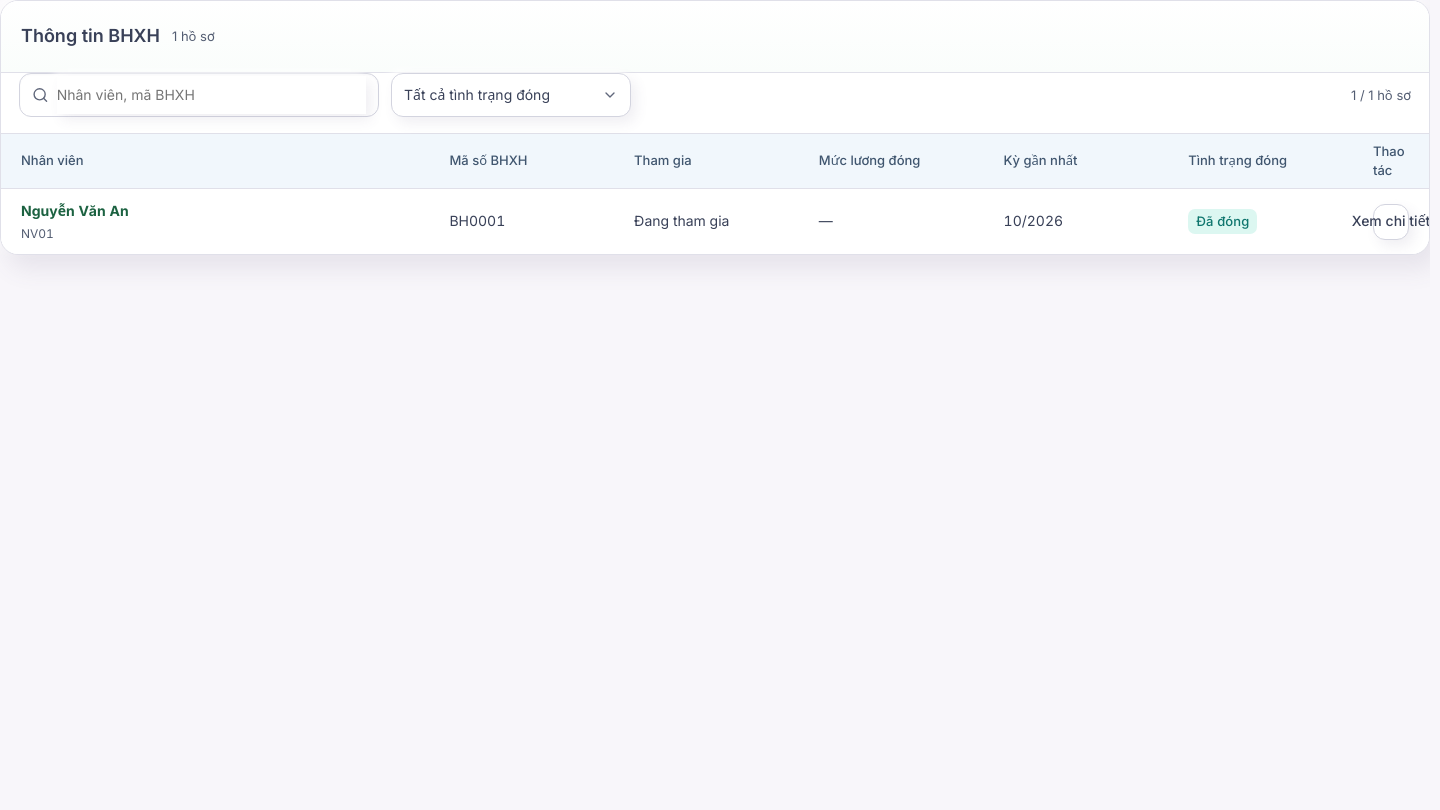
insurance history UI › hides history actions when server capability is absent
expect the text "1 hồ sơ" is shown: met, box [172, 27, 215, 46]
Click the button with aria-label "Xem BHXH của Nguyễn Văn An" at (75, 222), box [21, 197, 129, 246]
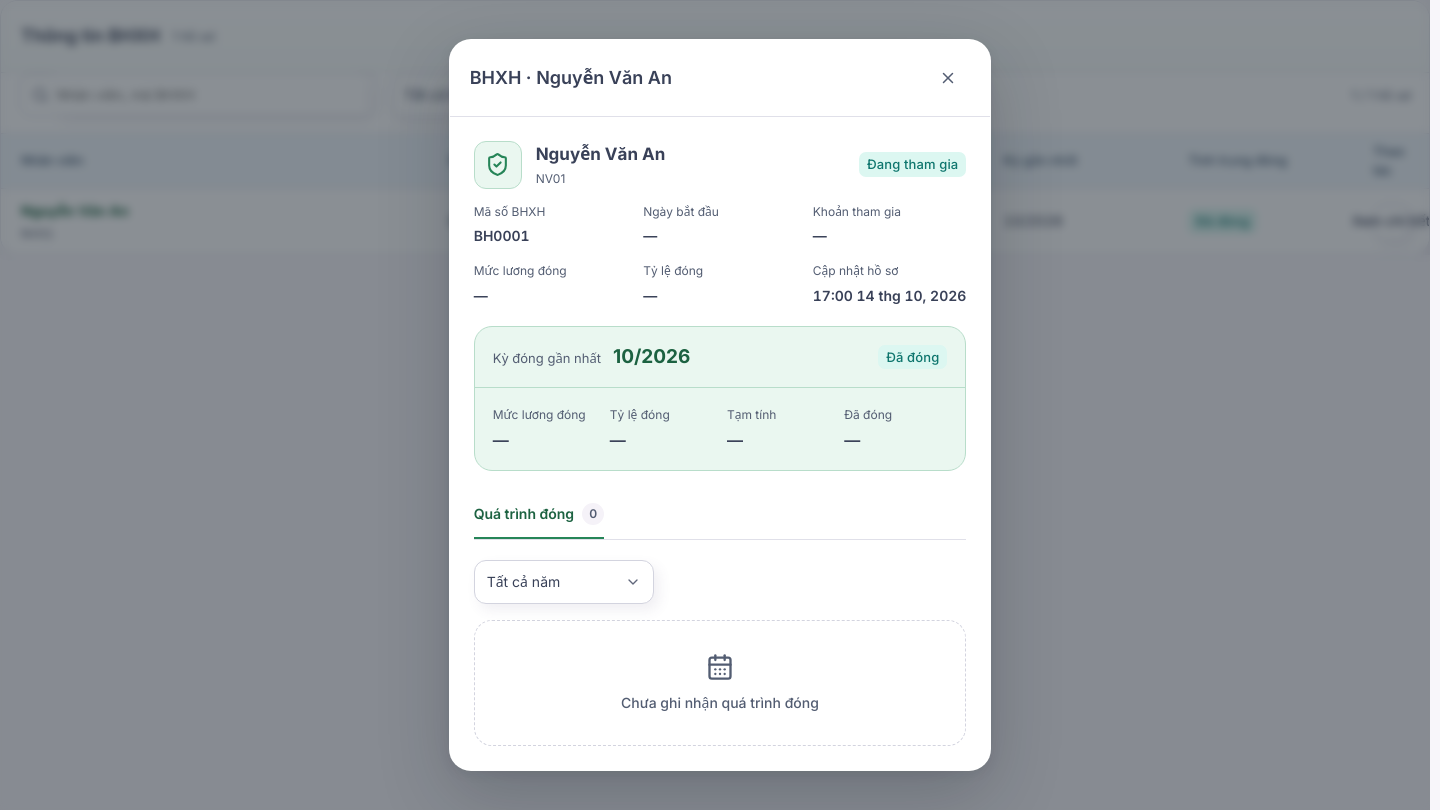
expect the tab "Quá trình đóng 0" is shown: met, box [474, 491, 604, 539]
expect the text "Chưa ghi nhận quá trình đóng" is shown: met, box [621, 693, 819, 713]
